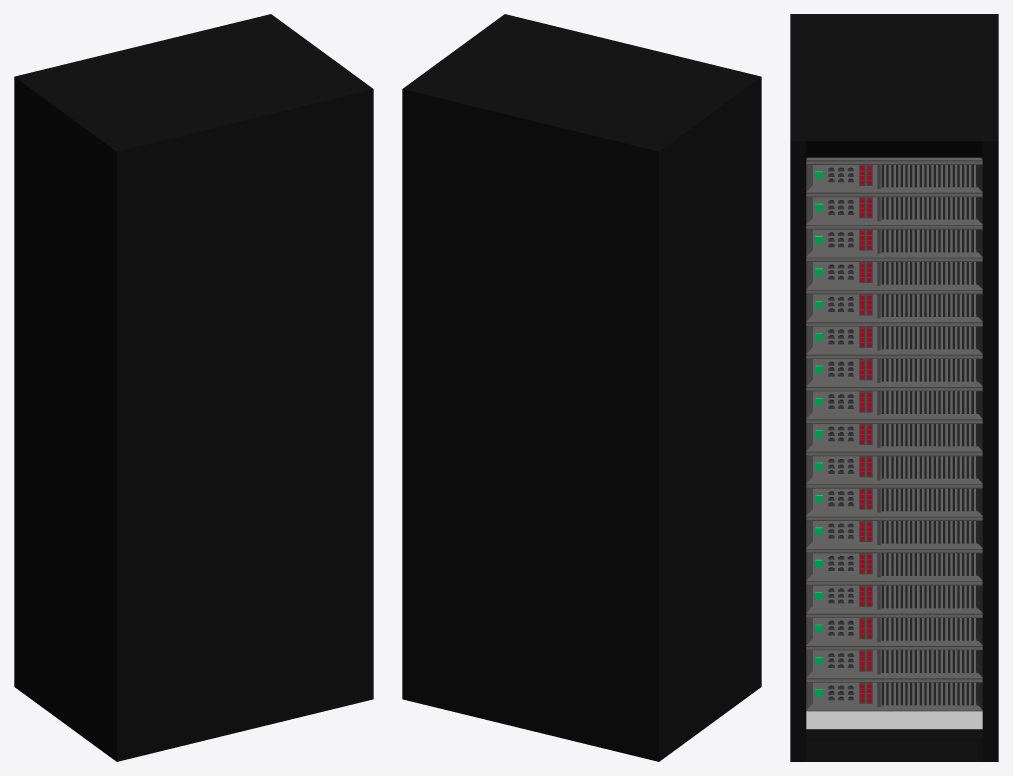
File: server_rack_lod1.fbx
3 views of the same model, side by side, from view 1: azimuth 30°, elevation 25°; view 2: azimuth 150°, elevation 25°; view 3: azimuth 270°, elevation 25° (orthographic).
Parts seen in each view (by area): view 1: Server Rack; view 2: Server Rack; view 3: Server Chassis, Server Rack, Cube.
Part boxes in pixels (x1,y1,x2,y2): Server Rack: (14, 14, 373, 761); Server Rack: (402, 14, 761, 761); Server Chassis: (806, 157, 982, 711); Server Rack: (790, 14, 998, 761); Cube: (806, 711, 982, 729).
Size of the model in its own units: 308 by 700 by 213.
